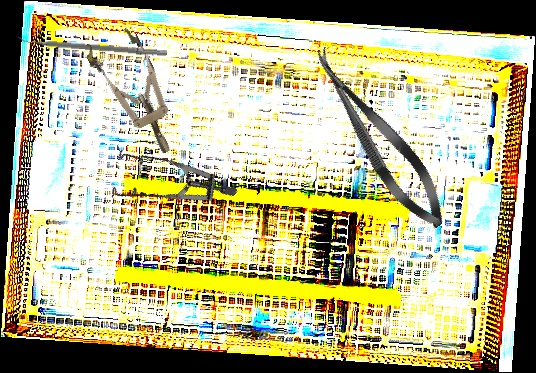Micro Scissor: (300, 39, 458, 238)
Spatula Surgical: (17, 33, 168, 57)
Speculum: (92, 113, 240, 259), (81, 22, 191, 165)
